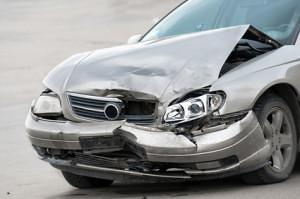Headlight-Damage: (154, 86, 228, 127)
bonnet-dent: (41, 24, 264, 86)
front-bumper-dent: (38, 119, 245, 177)
